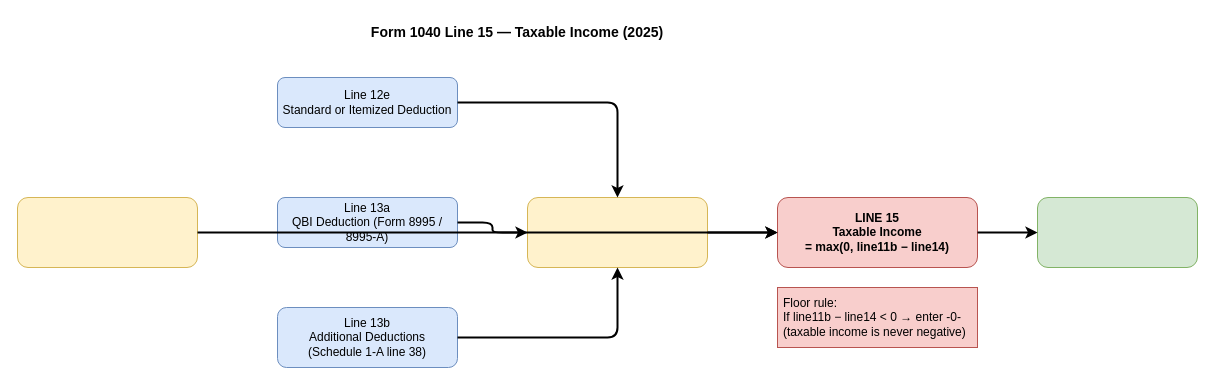
The diagram is 1215 pixels wide and 385 high, and some of its shapes have lost their labels. Each missing label, with the box of its shape:
Line 11b Adjusted Gross Income (AGI) = line 9 − line 10: (16, 196, 198, 268)
Line 14 Total Deductions = line12e + line13a + line13b: (526, 196, 708, 268)
Line 16 Tax (tax tables / rate schedules): (1036, 196, 1198, 268)
